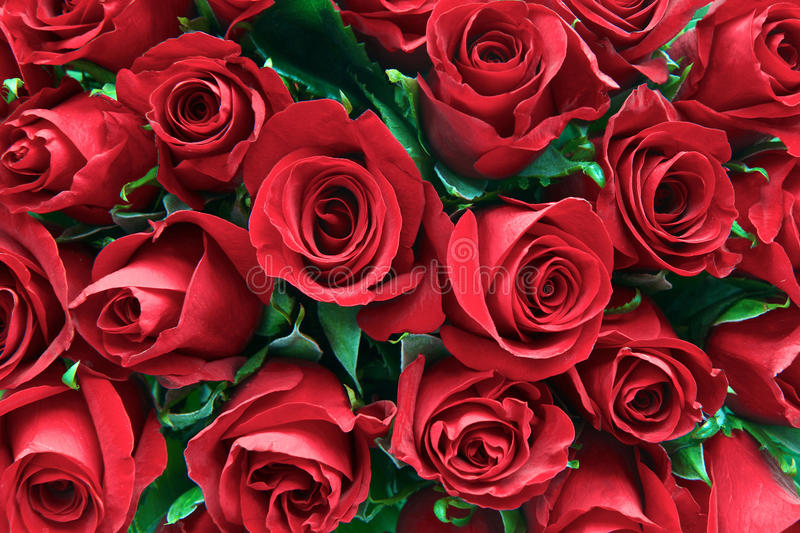RedRose: (439, 207, 615, 374), (108, 208, 285, 367), (148, 43, 302, 204), (247, 140, 428, 276), (428, 16, 576, 180), (404, 370, 576, 498), (238, 370, 383, 521), (17, 384, 158, 532), (613, 113, 725, 282), (8, 91, 148, 216), (593, 323, 726, 449), (0, 230, 82, 386), (563, 436, 686, 527), (20, 0, 171, 72), (707, 10, 796, 132), (573, 12, 687, 80), (757, 305, 800, 433)
